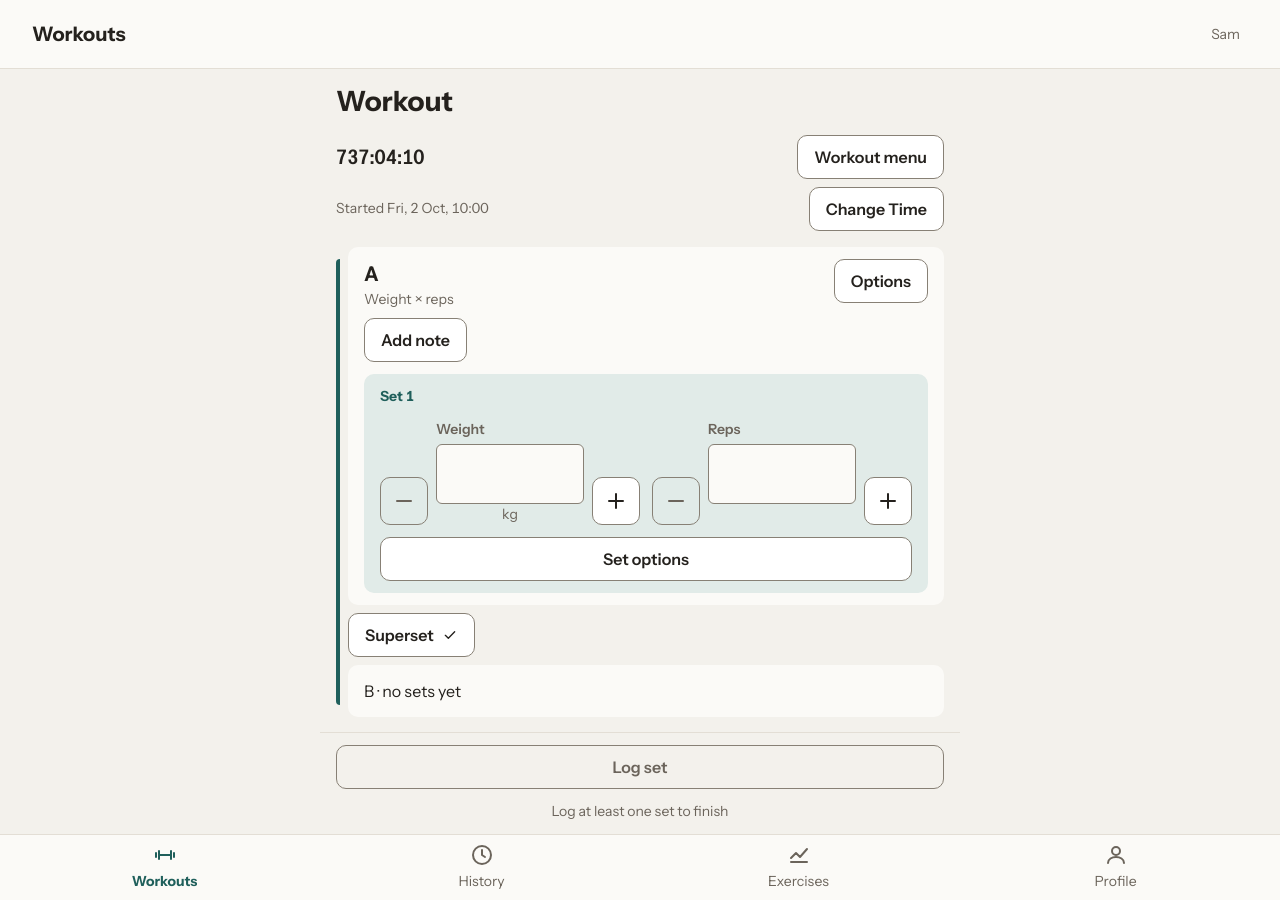
Test: 17.1 AC16 — brackets, sections and link toggles › collapsed rows keep the bracket; a toggle shows only beside the current card
Expected: the heading "Workout" is shown, [336,84,453,118]
Expected: the button with aria-label "Superset A with B" is shown, [348,613,475,657]
Click the button "B · no sets yet". click: (413, 691)
box: [364,669,928,713]
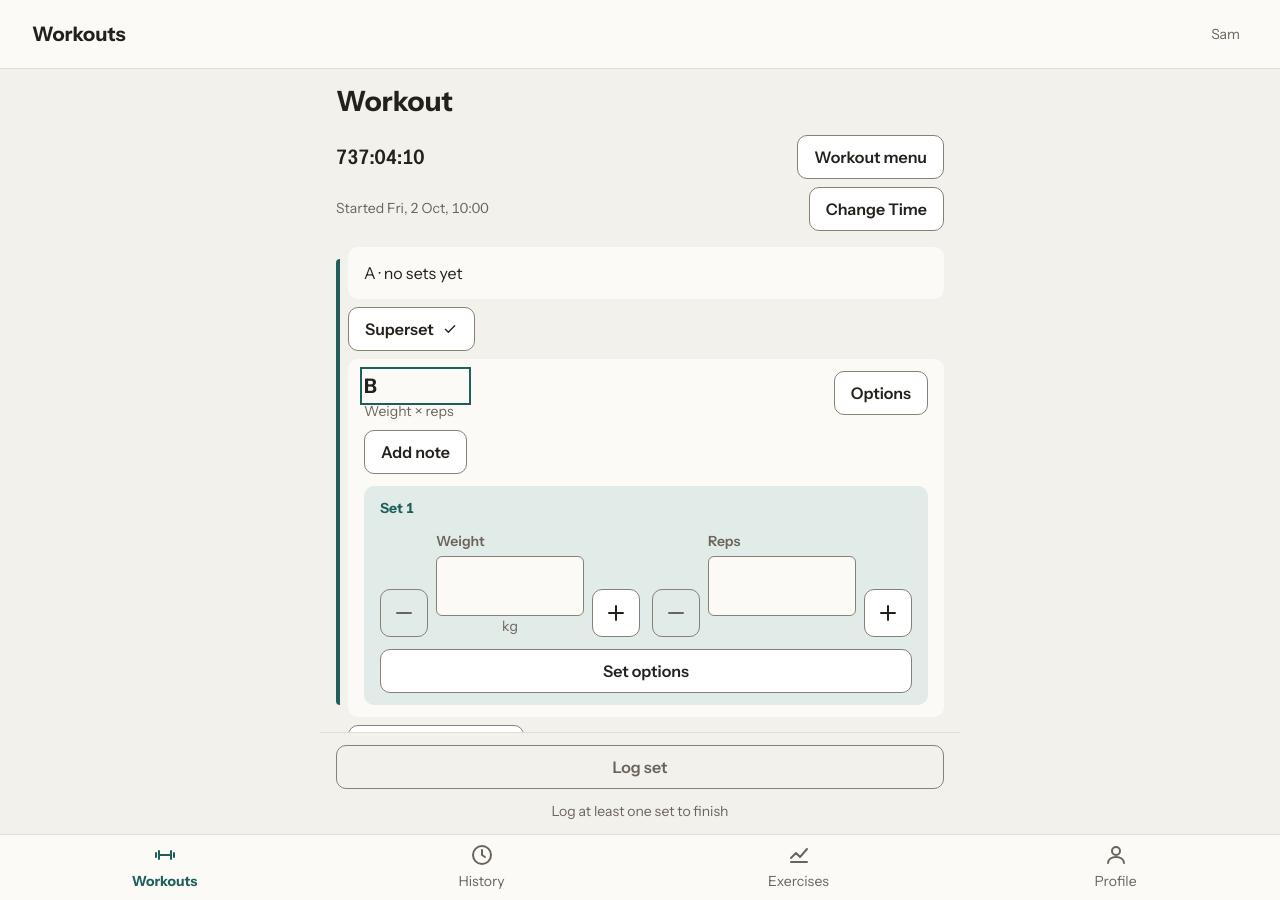
Expected: the button with aria-label "Superset A with B" is shown, [348,307,475,351]
Expected: the button with aria-label "Superset B with C" is shown, [348,725,524,769]
